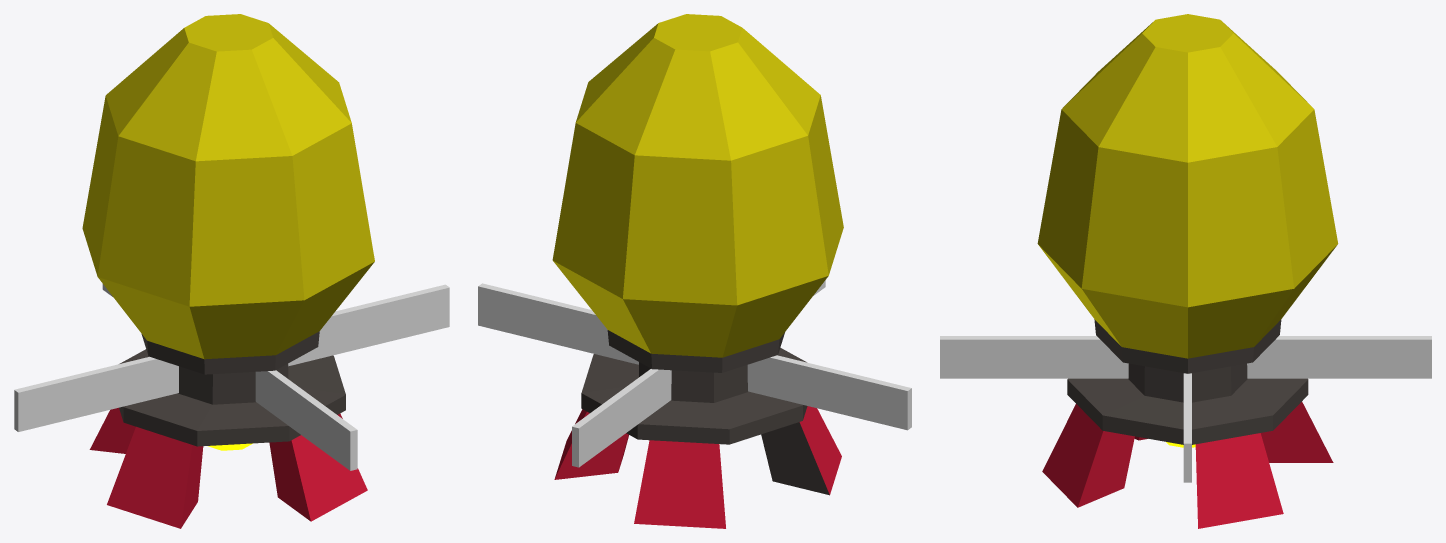
Rendered from lvl1.fbx.
The picture shows the model from 3 angles, left to right: view 1: azimuth 30°, elevation 25°; view 2: azimuth 150°, elevation 25°; view 3: azimuth 270°, elevation 25°; orthographic projection.
Parts seen in each view (by area): view 1: Cylinder; view 2: Cylinder; view 3: Cylinder.
Part boxes in pixels (x1,y1,x2,y2): Cylinder: [14, 14, 449, 528]; Cylinder: [478, 14, 911, 528]; Cylinder: [940, 14, 1431, 528].
Bounding box in the file's own units: 196 × 190 × 195.
